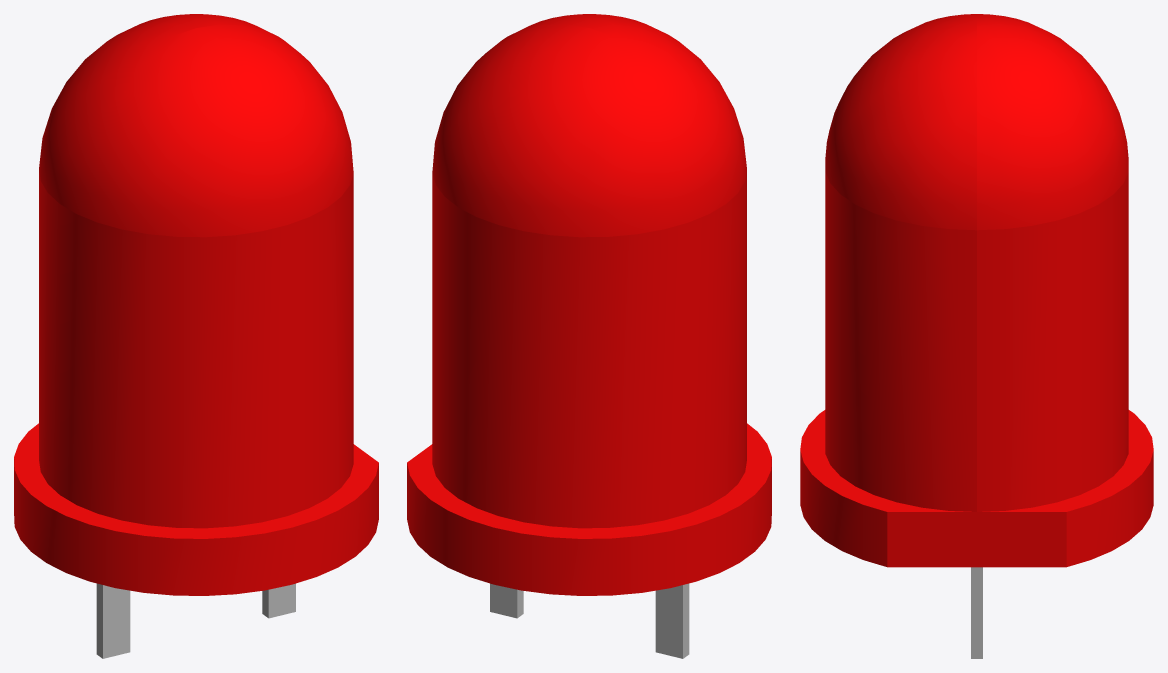
Rendered from sfe-led_pth_5mm_red.glb.
The picture shows the model from 3 angles, left to right: view 1: azimuth 30°, elevation 25°; view 2: azimuth 150°, elevation 25°; view 3: azimuth 270°, elevation 25°; orthographic projection. The views are drawn at different scales.
Visible parts, largest first — view 1: 1_0_0_0, 0.5833333333333334_0.5833333333333334_0.5833333333333334_0.8; view 2: 1_0_0_0, 0.5833333333333334_0.5833333333333334_0.5833333333333334_0.8; view 3: 1_0_0_0, 0.5833333333333334_0.5833333333333334_0.5833333333333334_0.8.
Part boxes in pixels (left/top/right/bottom): 1_0_0_0: left=14, top=14, right=378, bottom=595; 0.5833333333333334_0.5833333333333334_0.5833333333333334_0.8: left=96, top=583, right=295, bottom=658; 1_0_0_0: left=407, top=14, right=771, bottom=595; 0.5833333333333334_0.5833333333333334_0.5833333333333334_0.8: left=490, top=583, right=689, bottom=658; 1_0_0_0: left=800, top=14, right=1153, bottom=567; 0.5833333333333334_0.5833333333333334_0.5833333333333334_0.8: left=971, top=567, right=982, bottom=658.
Size of the model in its own units: 0.5389 by 1.06 by 0.5798.
